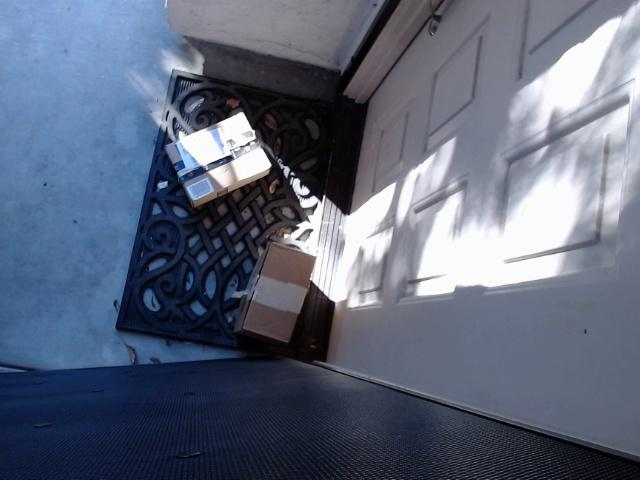box: (166, 111, 271, 207), (234, 241, 316, 347)
